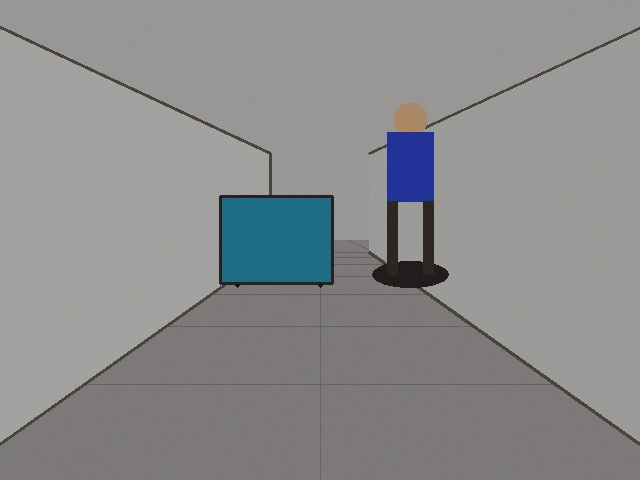cart: (220, 196, 332, 283)
person: (376, 102, 444, 274)
